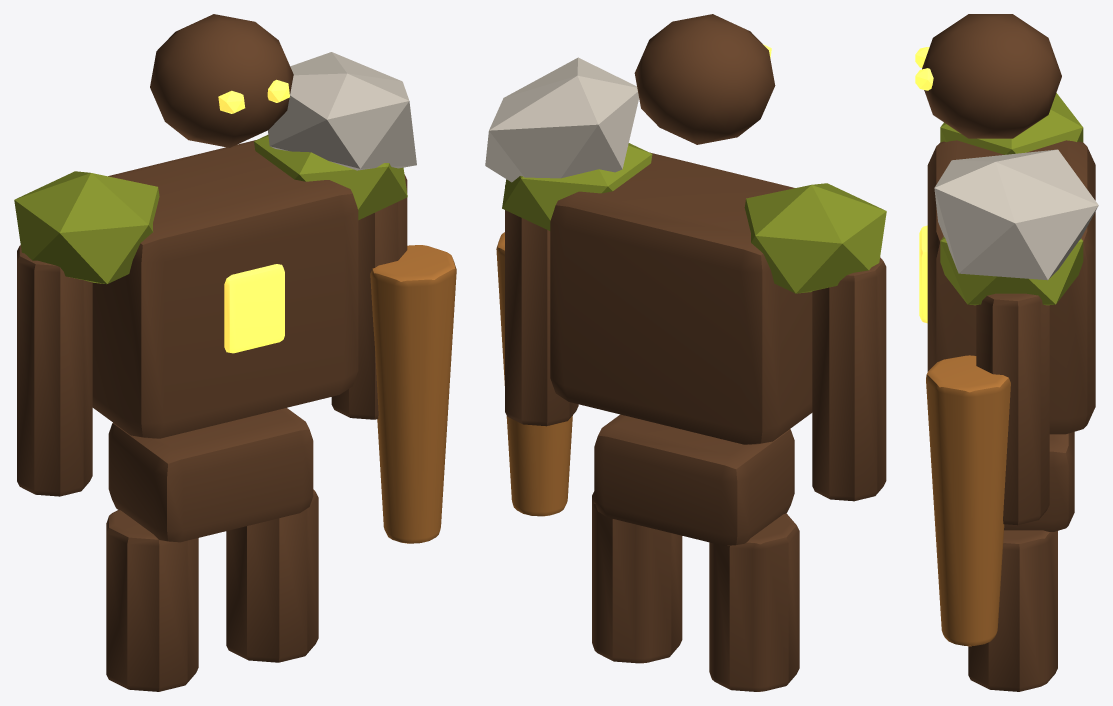
Rendered from enemy_watchpost_guardian.glb.
3 views of the same model, side by side, from view 1: azimuth 30°, elevation 25°; view 2: azimuth 150°, elevation 25°; view 3: azimuth 270°, elevation 25° (orthographic). The views are drawn at different scales.
Visible parts, largest first — view 1: Torso, Hips, Club, ArmL, LegL, Head, LegR, Pauldron, MossPadL, ArmR, Core, MossPadR; view 2: Torso, Hips, ArmL, LegL, Pauldron, Head, LegR, MossPadL, ArmR, Club, MossPadR; view 3: Club, Pauldron, Torso, Head, ArmR, LegR, MossPadR, MossPadL, Hips, Core, EyeR.
Part boxes in pixels (left/top/right/bottom): Torso: left=92, top=140, right=358, bottom=438; Hips: left=108, top=408, right=313, bottom=542; Club: left=370, top=245, right=456, bottom=543; ArmL: left=17, top=245, right=92, bottom=496; LegL: left=106, top=510, right=198, bottom=691; Head: left=150, top=14, right=293, bottom=147; LegR: left=226, top=489, right=318, bottom=662; Pauldron: left=268, top=52, right=416, bottom=170; MossPadL: left=14, top=171, right=159, bottom=284; ArmR: left=331, top=174, right=407, bottom=419; Core: left=224, top=264, right=284, bottom=353; MossPadR: left=254, top=135, right=407, bottom=220; Torso: left=550, top=152, right=812, bottom=444; Hips: left=594, top=414, right=794, bottom=545; ArmL: left=812, top=257, right=886, bottom=501; LegL: left=709, top=513, right=799, bottom=691; Pauldron: left=485, top=57, right=638, bottom=182; Head: left=634, top=14, right=775, bottom=144; LegR: left=592, top=491, right=682, bottom=663; MossPadL: left=744, top=183, right=886, bottom=293; ArmR: left=505, top=185, right=578, bottom=426; Club: left=496, top=232, right=572, bottom=516; MossPadR: left=502, top=143, right=652, bottom=230; Club: left=926, top=355, right=1010, bottom=646; Pauldron: left=934, top=149, right=1098, bottom=280; Torso: left=927, top=140, right=1095, bottom=434; Head: left=922, top=14, right=1061, bottom=138; ArmR: left=976, top=293, right=1049, bottom=525; LegR: left=968, top=530, right=1057, bottom=691; MossPadR: left=940, top=236, right=1083, bottom=305; MossPadL: left=940, top=93, right=1083, bottom=154; Hips: left=1004, top=432, right=1074, bottom=531; Core: left=919, top=225, right=927, bottom=323; EyeR: left=915, top=68, right=933, bottom=90.
Bounding box in the file's own units: 1.09 × 1.65 × 0.437.
